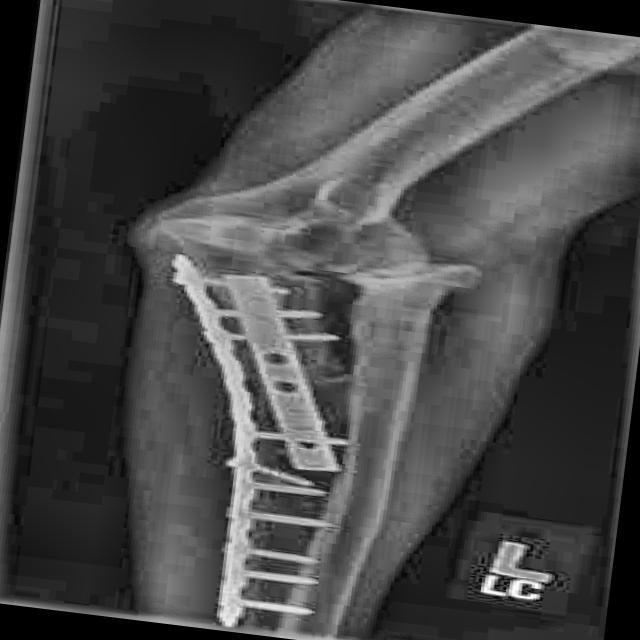elbow positive: (256, 343, 401, 402)
